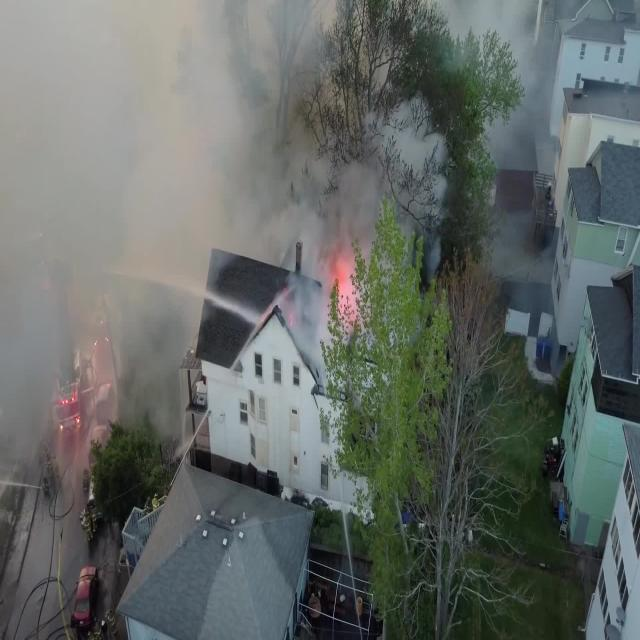Fire: (327, 264, 367, 346)
Smoke: (12, 8, 437, 260)
